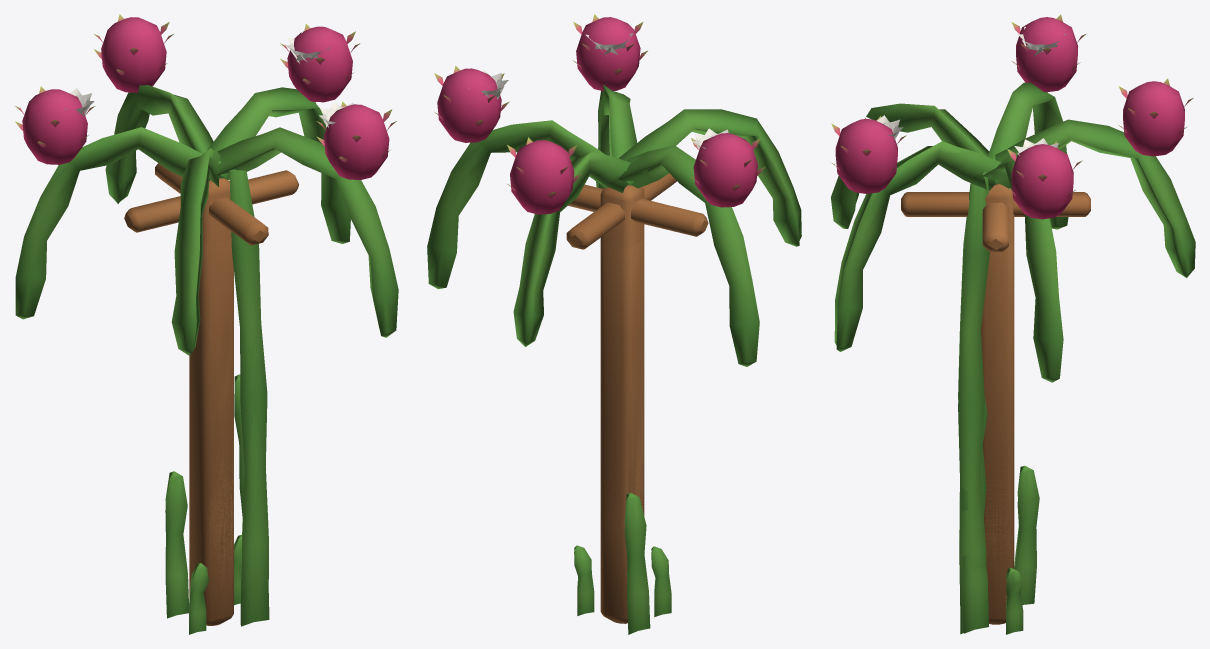
The picture shows the model from 3 angles, left to right: view 1: azimuth 30°, elevation 25°; view 2: azimuth 150°, elevation 25°; view 3: azimuth 270°, elevation 25°; orthographic projection.
Visible parts, largest first — view 1: stage3, stage2, stage1, stage0; view 2: stage2, stage3, stage1, stage0; view 3: stage2, stage3, stage1, stage0.
Boxes of the visible parts, x1,y1,x2,y2 form: stage3: (15, 14, 396, 625); stage2: (15, 32, 398, 626); stage1: (165, 239, 244, 625); stage0: (189, 534, 241, 634); stage2: (427, 33, 801, 623); stage3: (434, 14, 765, 623); stage1: (600, 238, 650, 634); stage0: (574, 545, 671, 617); stage2: (831, 26, 1195, 634); stage3: (831, 14, 1193, 624); stage1: (961, 243, 1039, 633); stage0: (1006, 567, 1023, 634).
Bounding box in the file's own units: 1.06 × 1.63 × 1.01.
